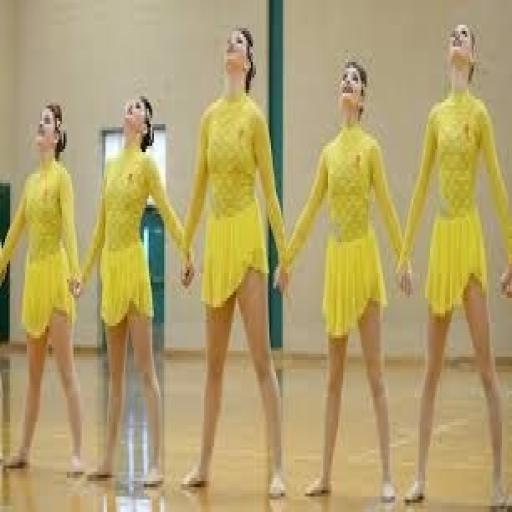dancing: (274, 56, 414, 506), (395, 19, 510, 509), (177, 22, 291, 502), (0, 99, 87, 481)
